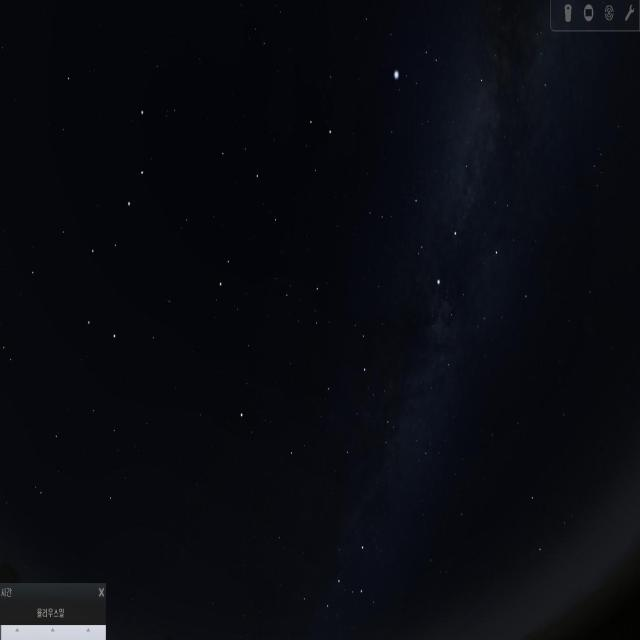cassiopeia: (298, 528, 370, 631)
cygnus: (405, 102, 507, 300)
lyra: (391, 38, 441, 100)
ursa_major: (81, 100, 167, 347)
